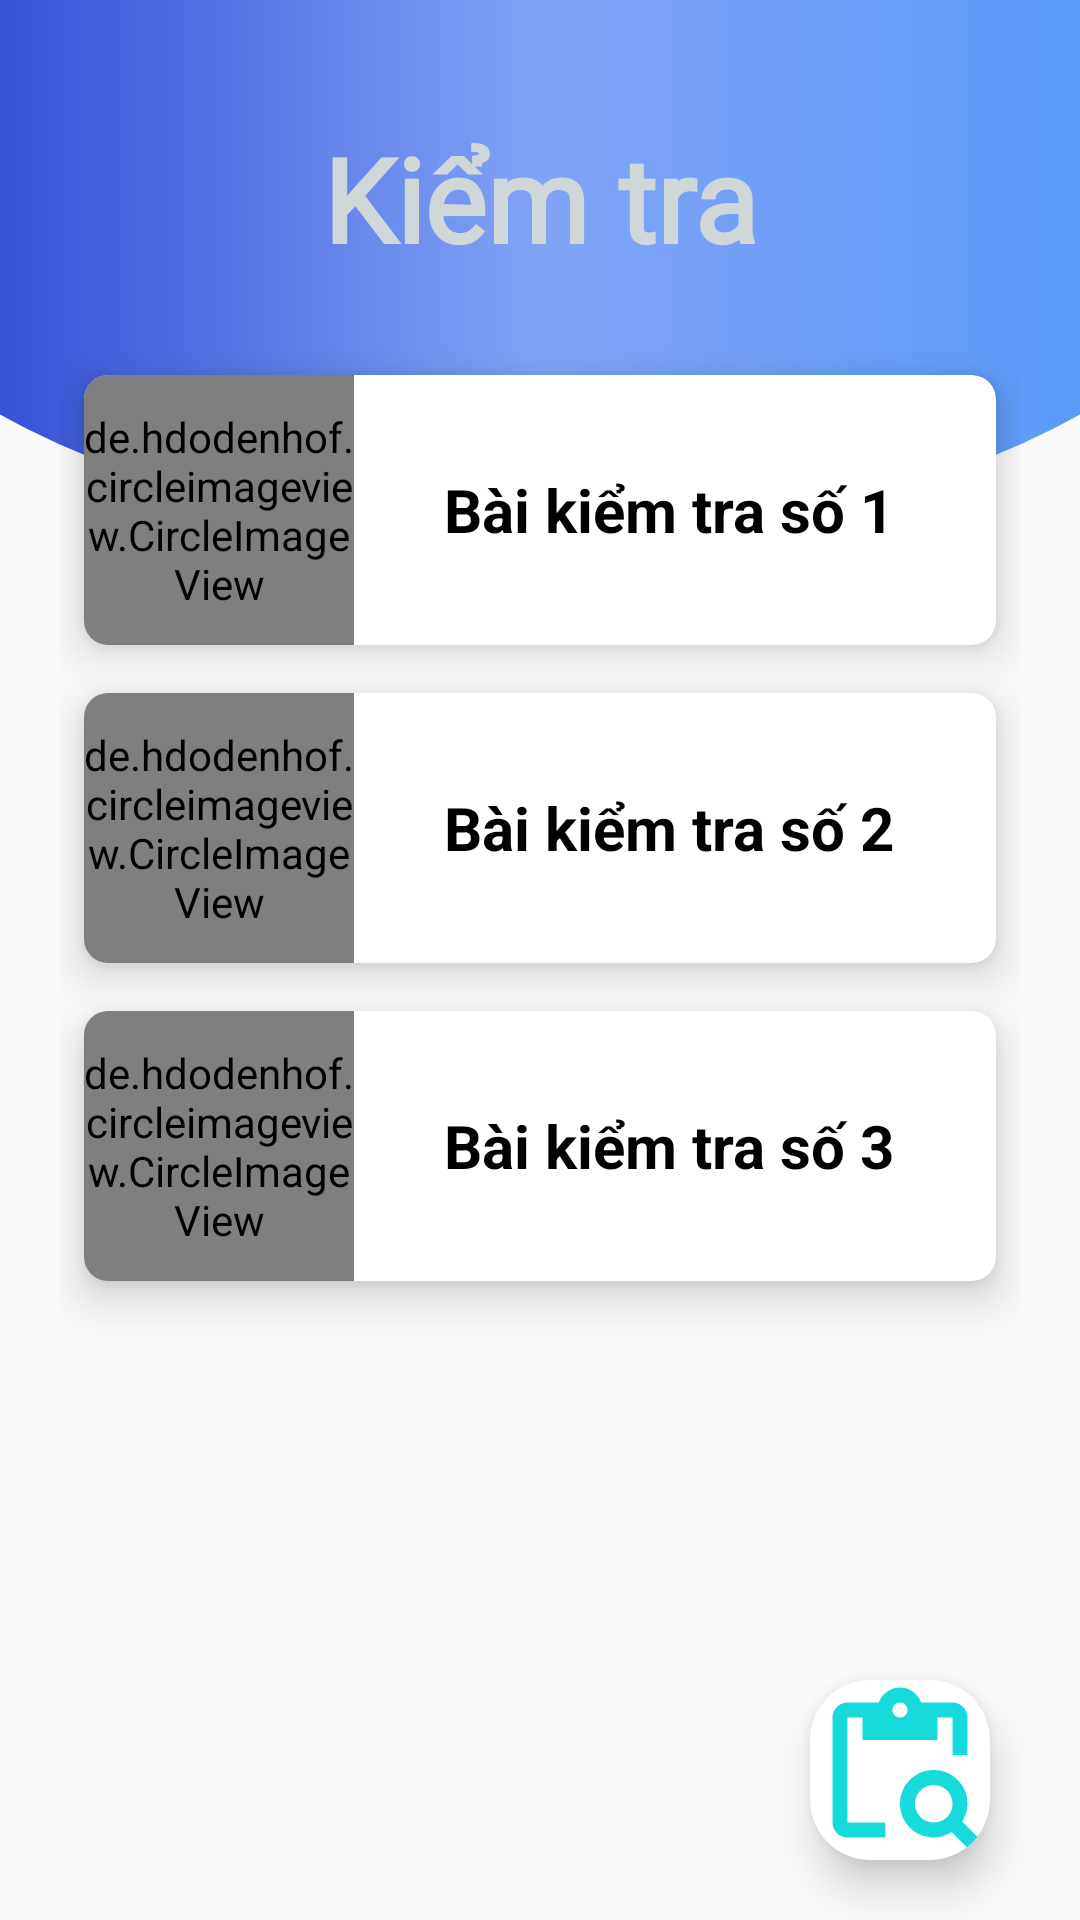

Locate icon controls on the screen. Image size 1080 x 1920, boxes as [x1, y1, x2, y2].
content paste search: [810, 1680, 990, 1860]
